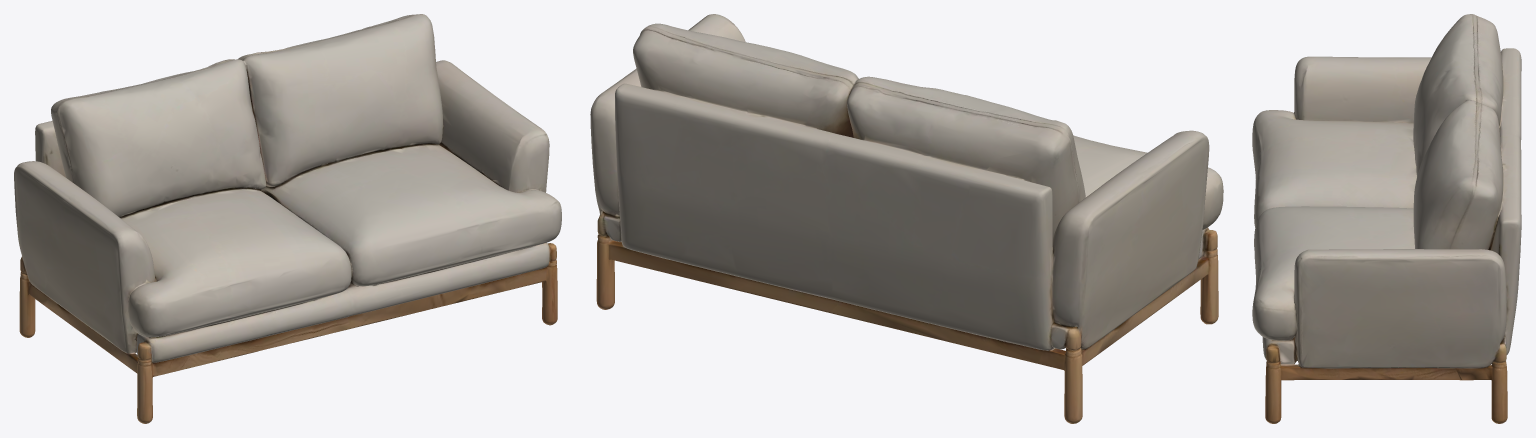
File: sofa_2.6ea2013b.glb
The picture shows the model from 3 angles, left to right: view 1: azimuth 30°, elevation 25°; view 2: azimuth 150°, elevation 25°; view 3: azimuth 270°, elevation 25°; orthographic projection. The views are drawn at different scales.
Visible parts, largest first — view 1: tripo_node_4f2323db-2966-4a68-9d50-9ee6474ff2ce; view 2: tripo_node_4f2323db-2966-4a68-9d50-9ee6474ff2ce; view 3: tripo_node_4f2323db-2966-4a68-9d50-9ee6474ff2ce.
Part boxes in pixels (x1,y1,x2,y2): tripo_node_4f2323db-2966-4a68-9d50-9ee6474ff2ce: [14, 14, 561, 423]; tripo_node_4f2323db-2966-4a68-9d50-9ee6474ff2ce: [590, 14, 1223, 423]; tripo_node_4f2323db-2966-4a68-9d50-9ee6474ff2ce: [1252, 14, 1521, 423].
Size of the model in its own units: 1.6 by 0.8497 by 0.8997.
1 material, 1 textured.
